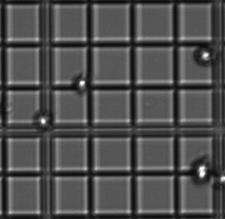Living Cell: (191, 157, 211, 185), (194, 44, 218, 66), (34, 113, 53, 130), (73, 73, 89, 92)
